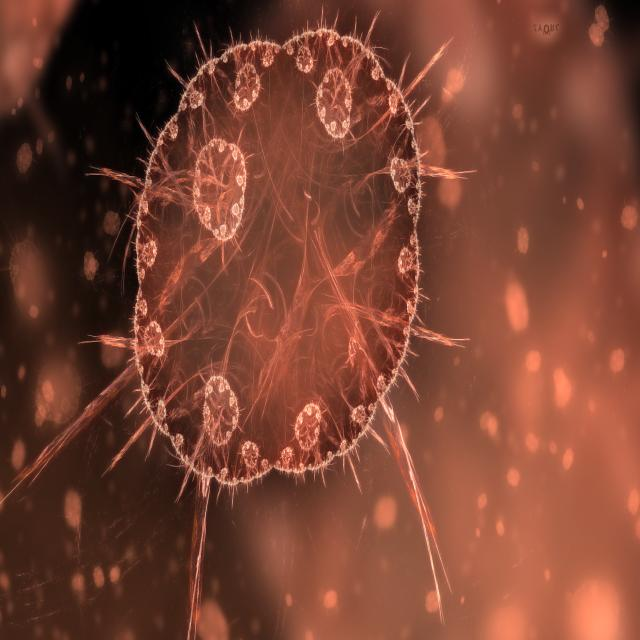Rod_bacteria: (4, 7, 478, 638)
